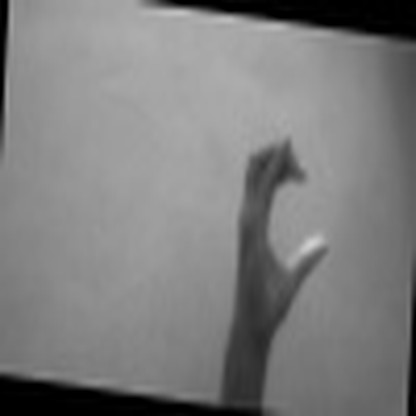c: (230, 130, 337, 333)
